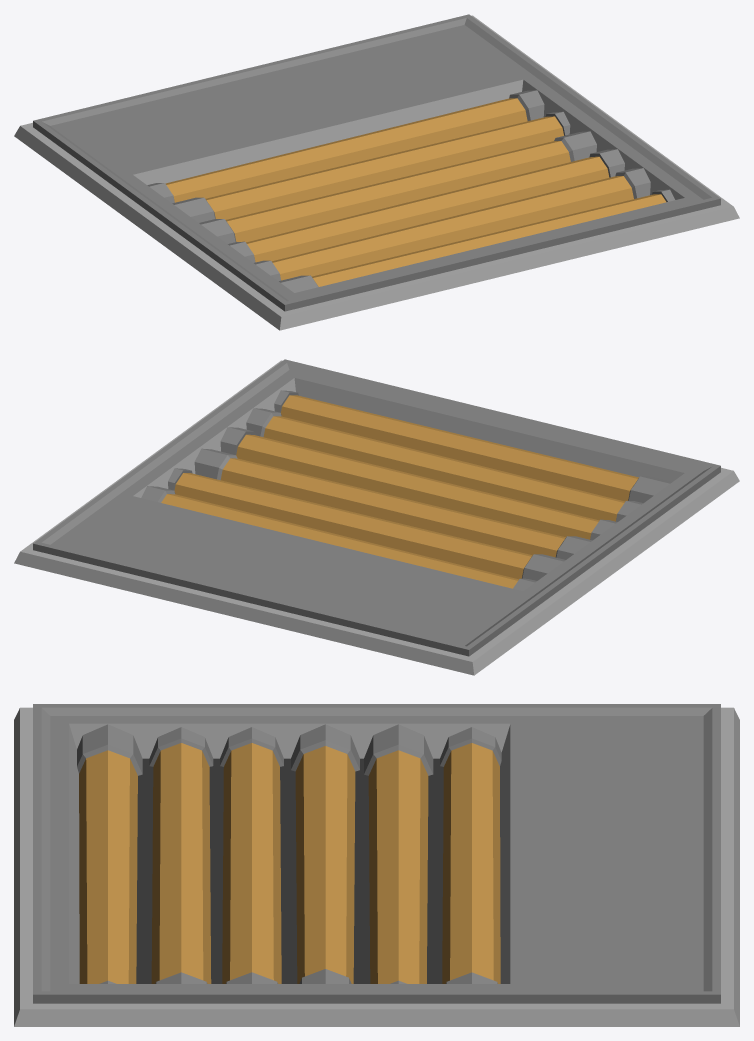
The model's file is RoofTile_Sides_Pipes.gltf.
3 views of the same model, one above another, from view 1: azimuth 30°, elevation 25°; view 2: azimuth 150°, elevation 25°; view 3: azimuth 270°, elevation 25° (orthographic). The views are drawn at different scales.
Parts seen in each view (by area): view 1: RoofTile_Sides_Pipes; view 2: RoofTile_Sides_Pipes; view 3: RoofTile_Sides_Pipes.
Boxes of the visible parts, box(x1,y1,x2,y2) form: RoofTile_Sides_Pipes: box(14, 14, 739, 330); RoofTile_Sides_Pipes: box(14, 359, 739, 675); RoofTile_Sides_Pipes: box(14, 704, 739, 1026).
Size of the model in its own units: 2 by 0.1133 by 2.
